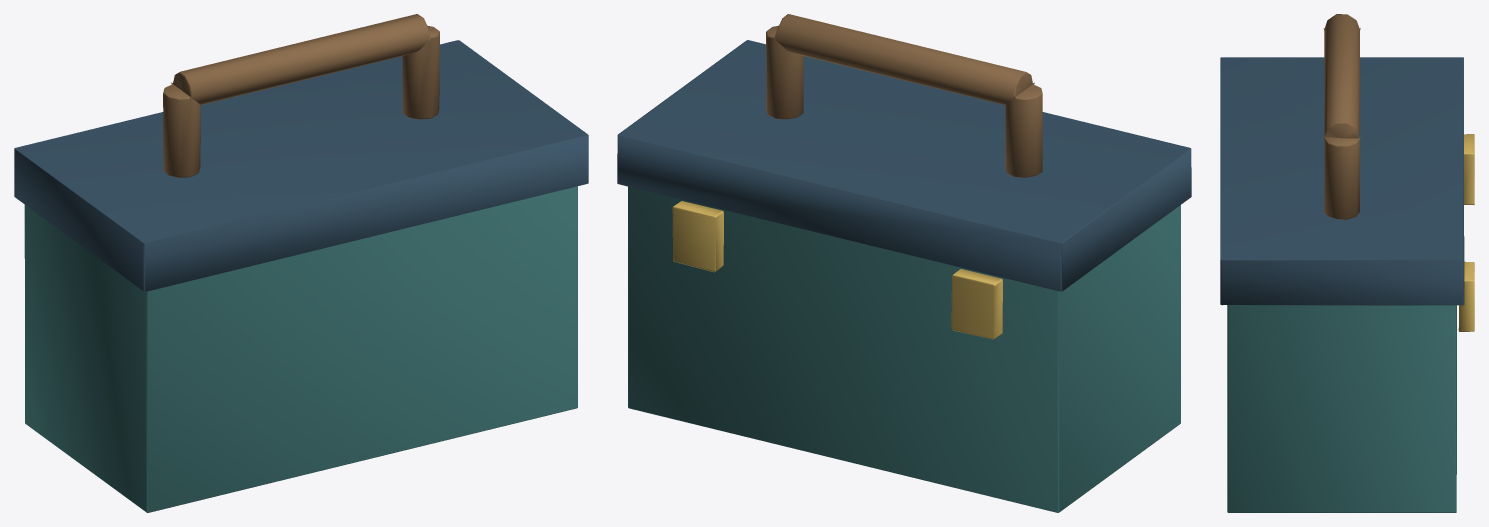
Rendered from toolbox.glb.
3 renders of one model, left to right at view 1: azimuth 30°, elevation 25°; view 2: azimuth 150°, elevation 25°; view 3: azimuth 270°, elevation 25°, orthographic. The views are drawn at different scales.
Bounding box in the file's own units: 0.67 × 0.5338 × 0.355.
